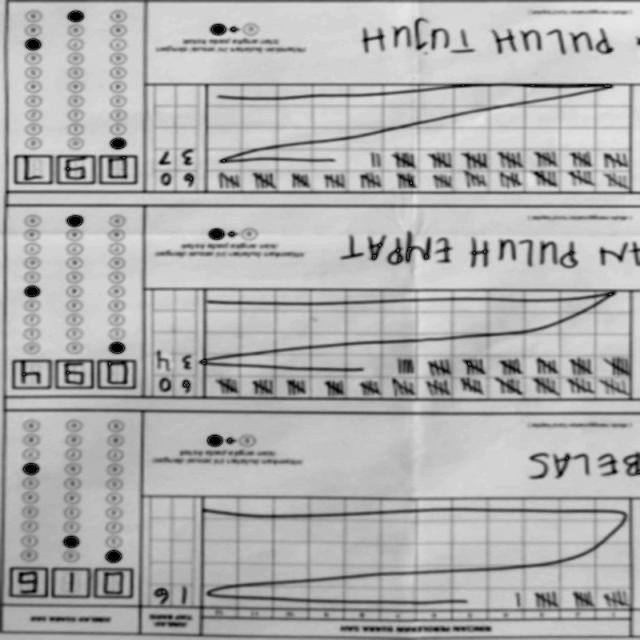Suara: (7, 564, 140, 603), (12, 358, 136, 397), (19, 157, 143, 193)
